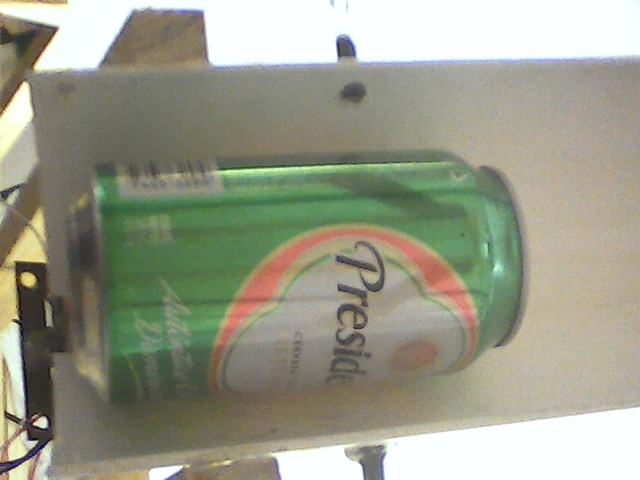lata: (59, 140, 541, 413)
